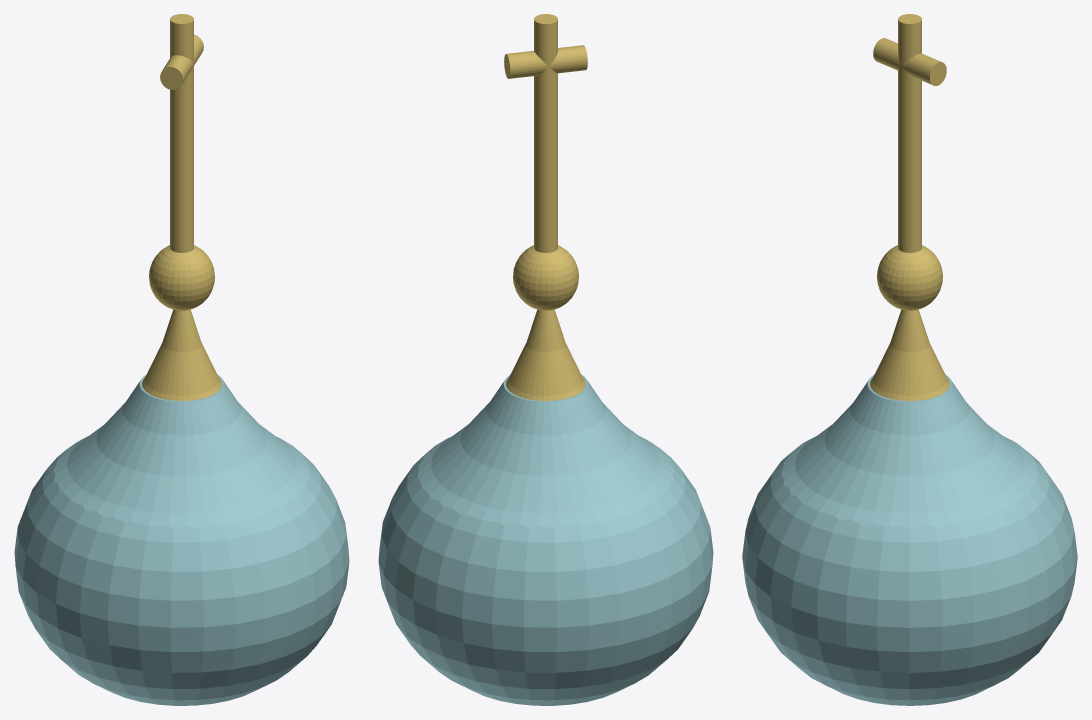
Rendered from St. Basil’s Cathedral .glb.
The picture shows the model from 3 angles, left to right: view 1: azimuth 30°, elevation 25°; view 2: azimuth 150°, elevation 25°; view 3: azimuth 270°, elevation 25°; orthographic projection.
Parts seen in each view (by area): view 1: Mesh_Mesh_head_geo.001_lambert2SG.001; view 2: Mesh_Mesh_head_geo.001_lambert2SG.001; view 3: Mesh_Mesh_head_geo.001_lambert2SG.001.
Boxes of the visible parts, x1=… form: Mesh_Mesh_head_geo.001_lambert2SG.001: x1=14, y1=14, x2=349, y2=705; Mesh_Mesh_head_geo.001_lambert2SG.001: x1=378, y1=14, x2=713, y2=705; Mesh_Mesh_head_geo.001_lambert2SG.001: x1=742, y1=14, x2=1077, y2=705.
Size of the model in its own units: 0.008 by 0.0176 by 0.008.
